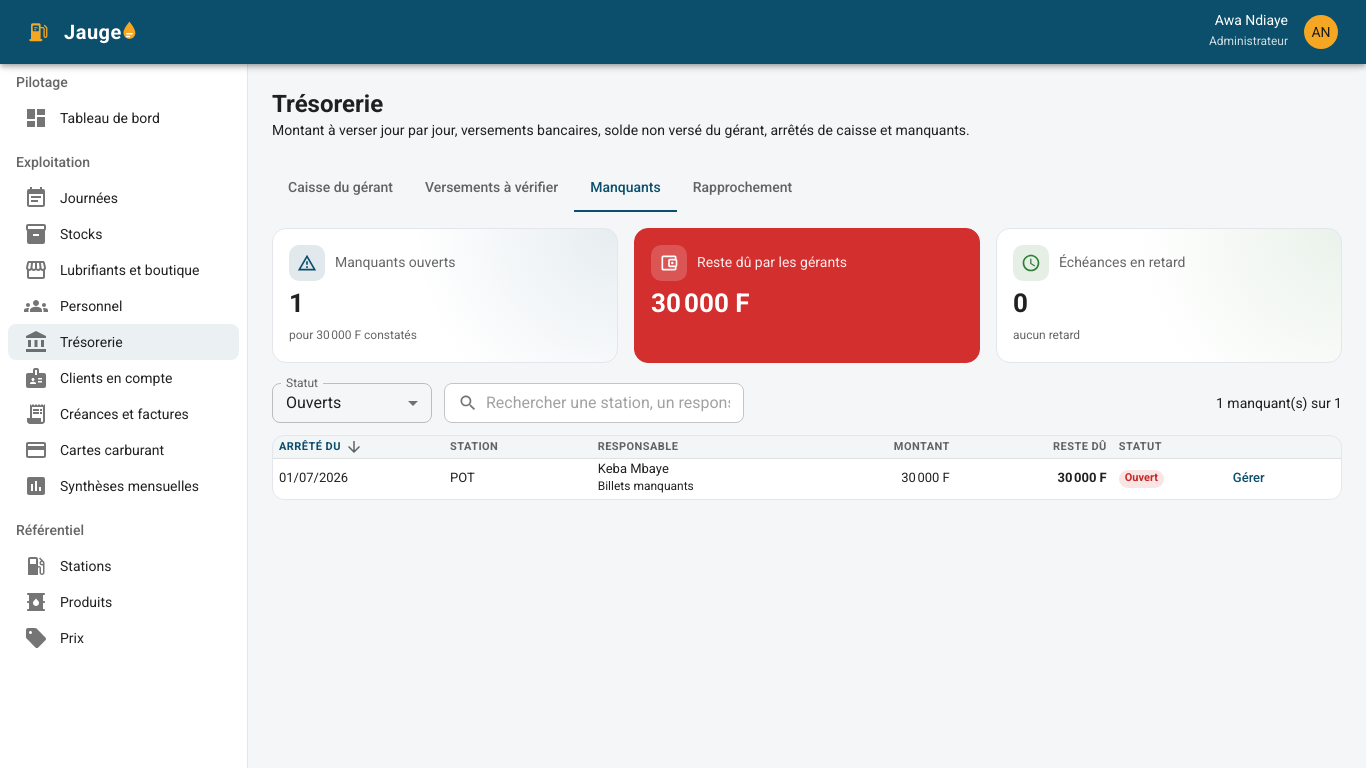
Test: manquants des gérants › la comptabilité établit un échéancier puis enregistre une retenue partielle
Later steps or results of the test are not shown.
Expected: the cell with test id "reste-m1" reads "30 000 F", [1058, 470, 1107, 486]
Click the button "Gérer": (1249, 479) [1217, 468, 1281, 489]
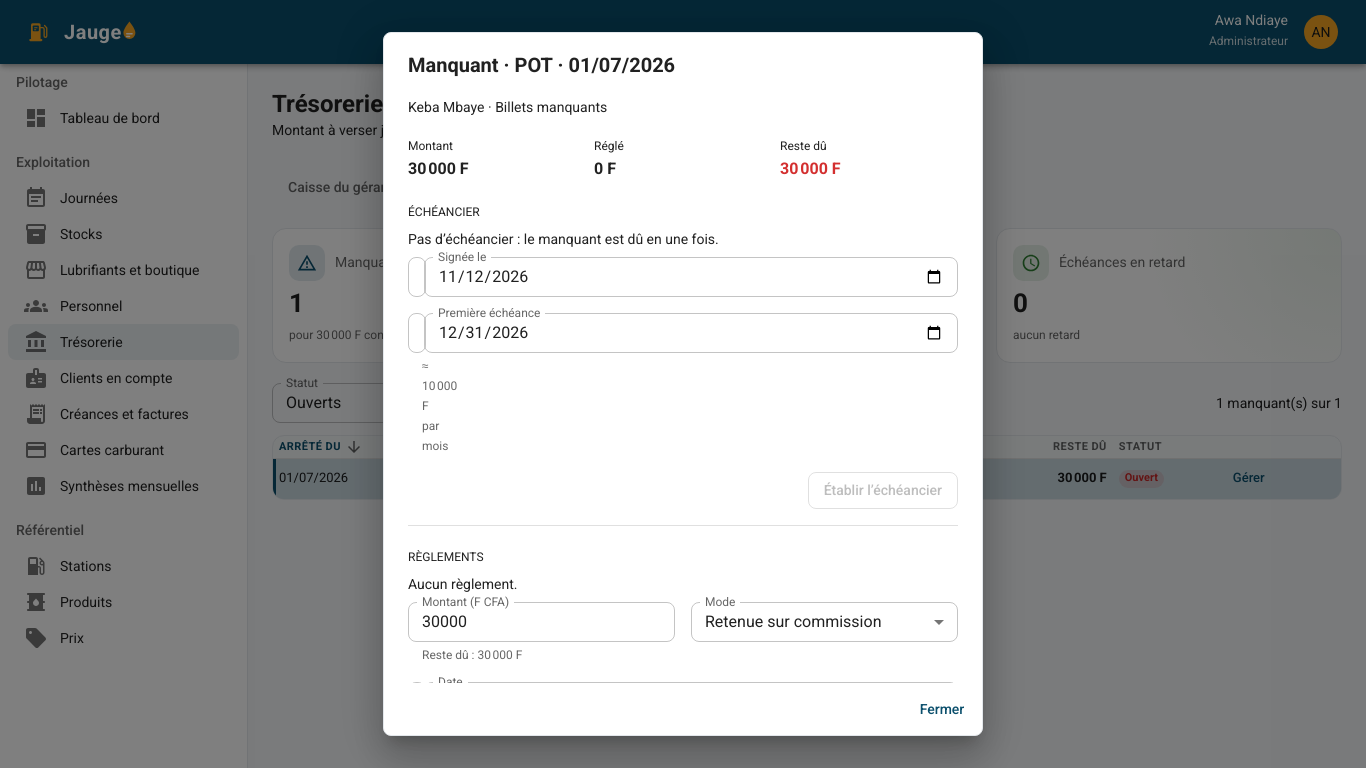
Expected: the text "Pas d’échéancier : le manquant est dû en une fois." is shown, [408, 231, 719, 247]
In the field named "Reconnaissance de dette n°" next to "Signée le": (422, 277) [408, 257, 436, 297], type "RD-14"
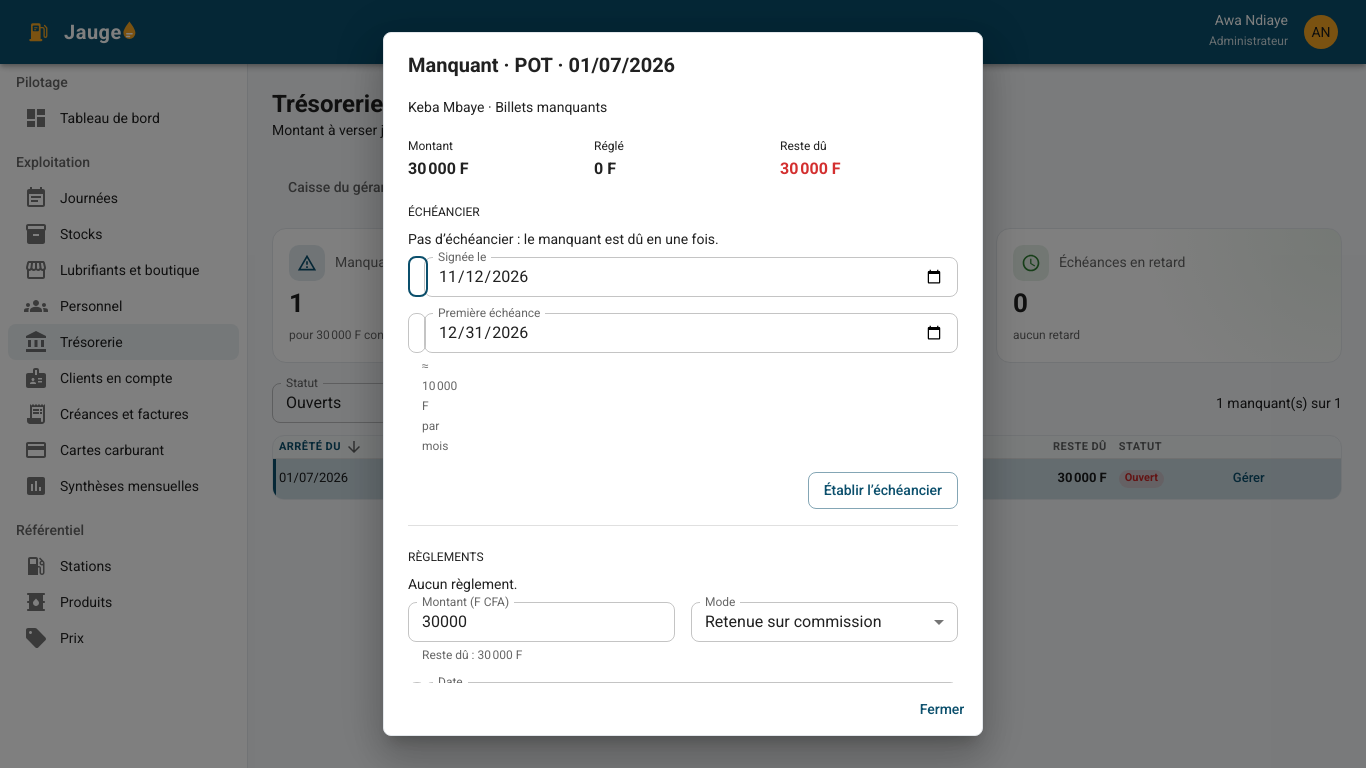
Click the button "Établir l’échéancier": (883, 491) [808, 472, 958, 509]
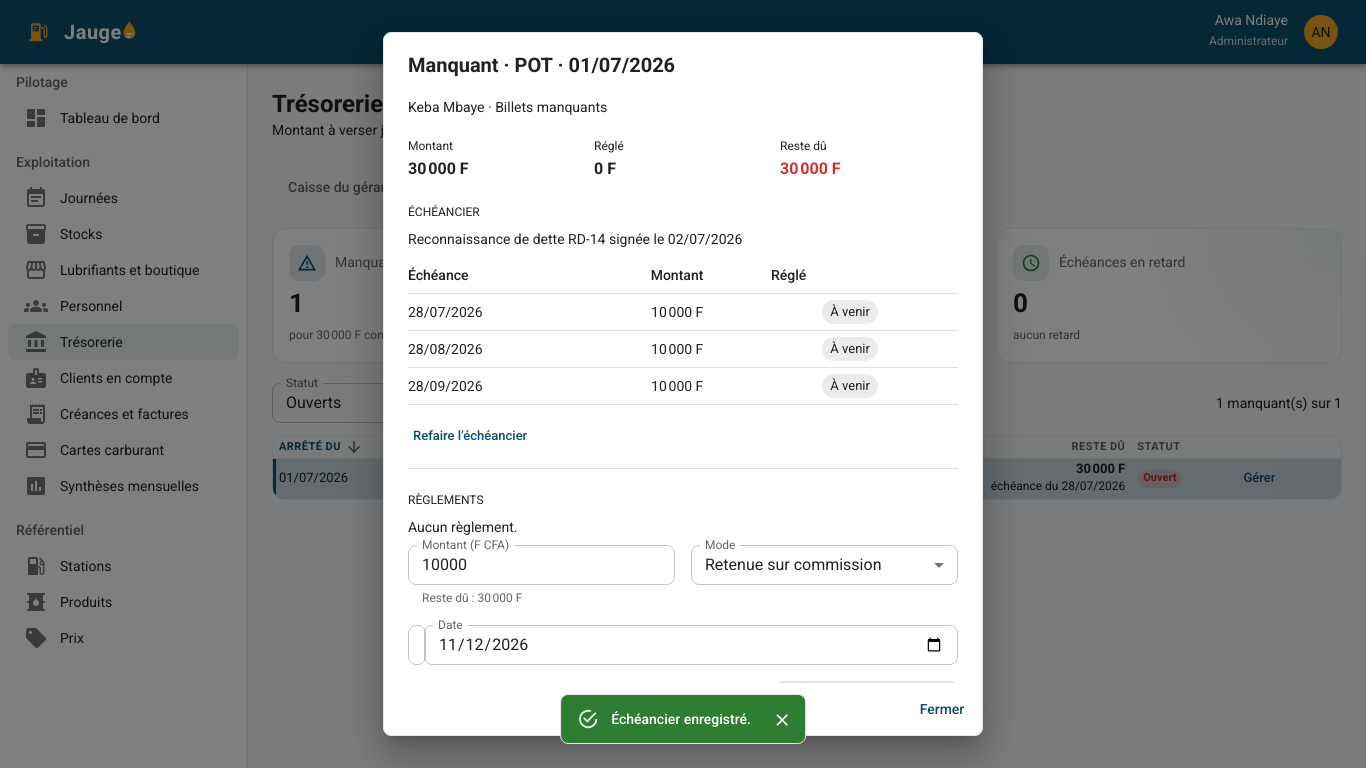
Expected: the text "Reconnaissance de dette RD-14 signée le 02/07/2026" is shown, [408, 231, 742, 247]
Expected: the text "À venir" is shown 6 times
Expected: the field labelled "Montant (F CFA)" holds "10000", [408, 545, 675, 585]
